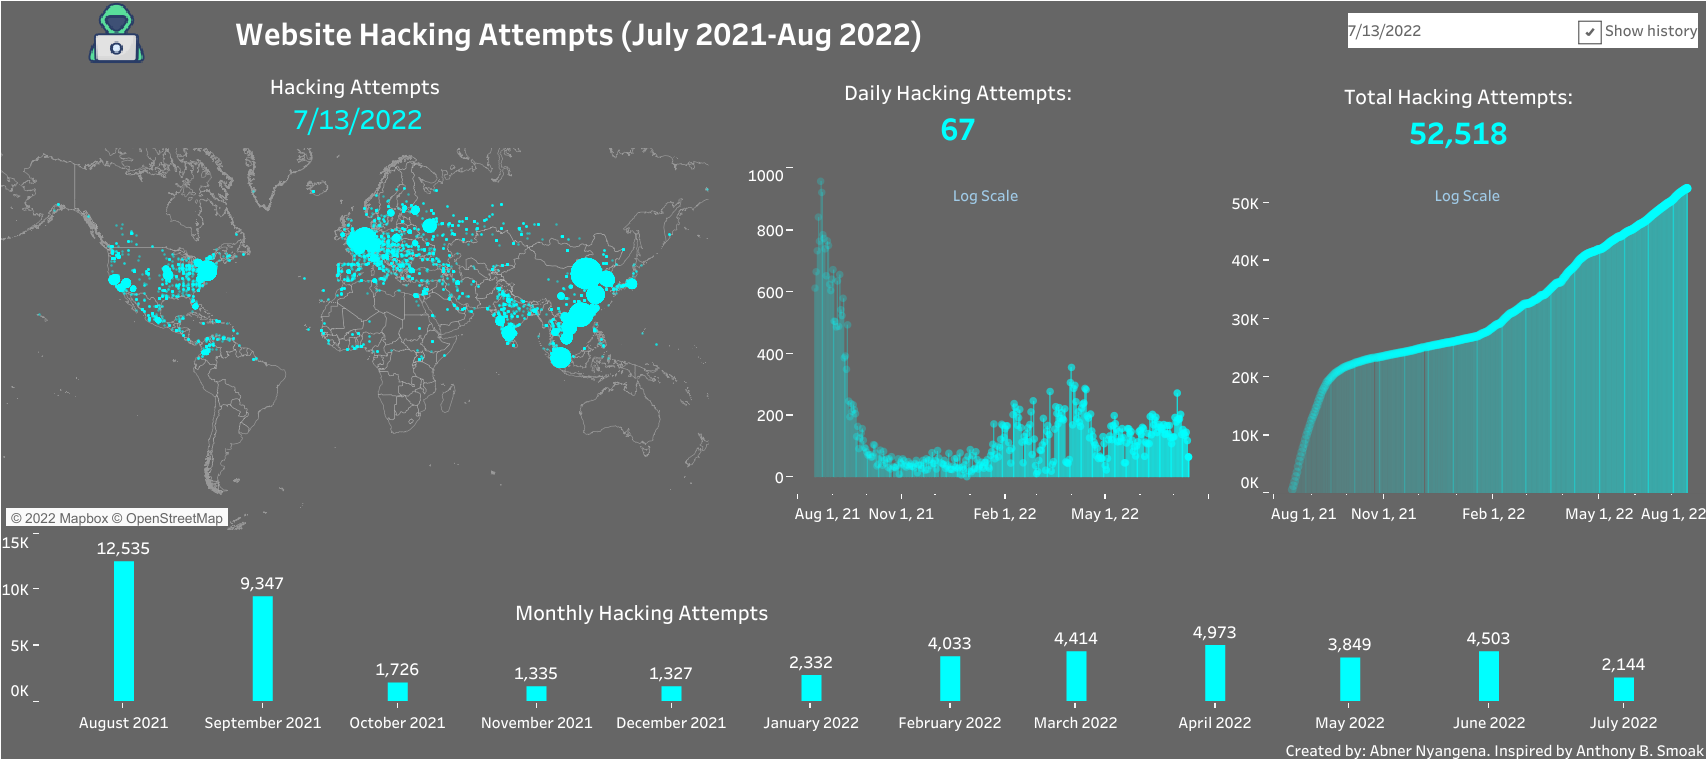

This screenshot's page, from the dashboard's own definition file:
{"tool":"tableau","page":{"name":"Dashboard 1","canvas":[1000,1000],"units":"permille","ordinal":0},"visuals":[{"type":"image","param":"Image/hacker (2).png","box":[0.7,1.3,140.1,88.3]},{"type":"text","box":[140.9,1.3,859.9,88.3]},{"type":"currpage","title":"Mapping Running Total","box":[789,15.9,204.9,45.9]},{"type":"worksheet","title":"Mapping Running Total","mark":"Automatic","rows":["lat"],"cols":["lng"],"box":[0.7,89.6,390.7,659]},{"type":"worksheet","title":"Daily Ban","mark":"Automatic","box":[391.4,89.6,304.7,141.3]},{"type":"worksheet","title":"Total Ban","mark":"Automatic","box":[696.1,89.6,304.7,150.2]},{"type":"worksheet","title":"Daily Hacks (log)","mark":"Line","rows":["counts (date_counts.csv)","counts (date_counts.csv)"],"cols":["date"],"box":[415.1,170.6,292.8,470.1]},{"type":"worksheet","title":"Total Hacks (log)","mark":"Line","cols":["date"],"box":[707.9,177.1,292.8,463.5]},{"type":"worksheet","title":"Daily Hacks","mark":"Line","rows":["counts (date_counts.csv)","counts (date_counts.csv)"],"cols":["date"],"box":[391.4,231,304.7,517.7]},{"type":"dashboard-object","box":[814.9,235,89.1,42.4]},{"type":"dashboard-object","box":[539.2,238.5,75.4,35.3]},{"type":"worksheet","title":"Total Hacks","mark":"Line","cols":["date"],"box":[696.1,239.8,304.7,508.8]},{"type":"worksheet","title":"Month Counts","mark":"Bar","rows":["counts (date_counts.csv)"],"cols":["date"],"box":[0.7,748.6,1000,220.8]},{"type":"text","box":[255.9,784.5,239.9,38.9]},{"type":"text","box":[0.7,969.5,1000,31.8]}]}

Visuals, with their boxes on the dashboard's canvas, which has no fixed pixel size, in thousandths of its width and height (x1, y1, x2, y2). These are canvas units, not pixel positions in the 1706x759 screenshot, which may show the page scaled, cropped or inside an application window:
image: region(1, 1, 141, 90)
text: region(141, 1, 1001, 90)
"Mapping Running Total" currpage: region(789, 16, 994, 62)
"Mapping Running Total" worksheet: region(1, 90, 391, 749)
"Daily Ban" worksheet: region(391, 90, 696, 231)
"Total Ban" worksheet: region(696, 90, 1001, 240)
"Daily Hacks (log)" worksheet (Line marks): region(415, 171, 708, 641)
"Total Hacks (log)" worksheet (Line marks): region(708, 177, 1001, 641)
"Daily Hacks" worksheet (Line marks): region(391, 231, 696, 749)
dashboard-object: region(815, 235, 904, 277)
dashboard-object: region(539, 238, 615, 274)
"Total Hacks" worksheet (Line marks): region(696, 240, 1001, 749)
"Month Counts" worksheet (Bar marks): region(1, 749, 1001, 969)
text: region(256, 784, 496, 823)
text: region(1, 970, 1001, 1001)
